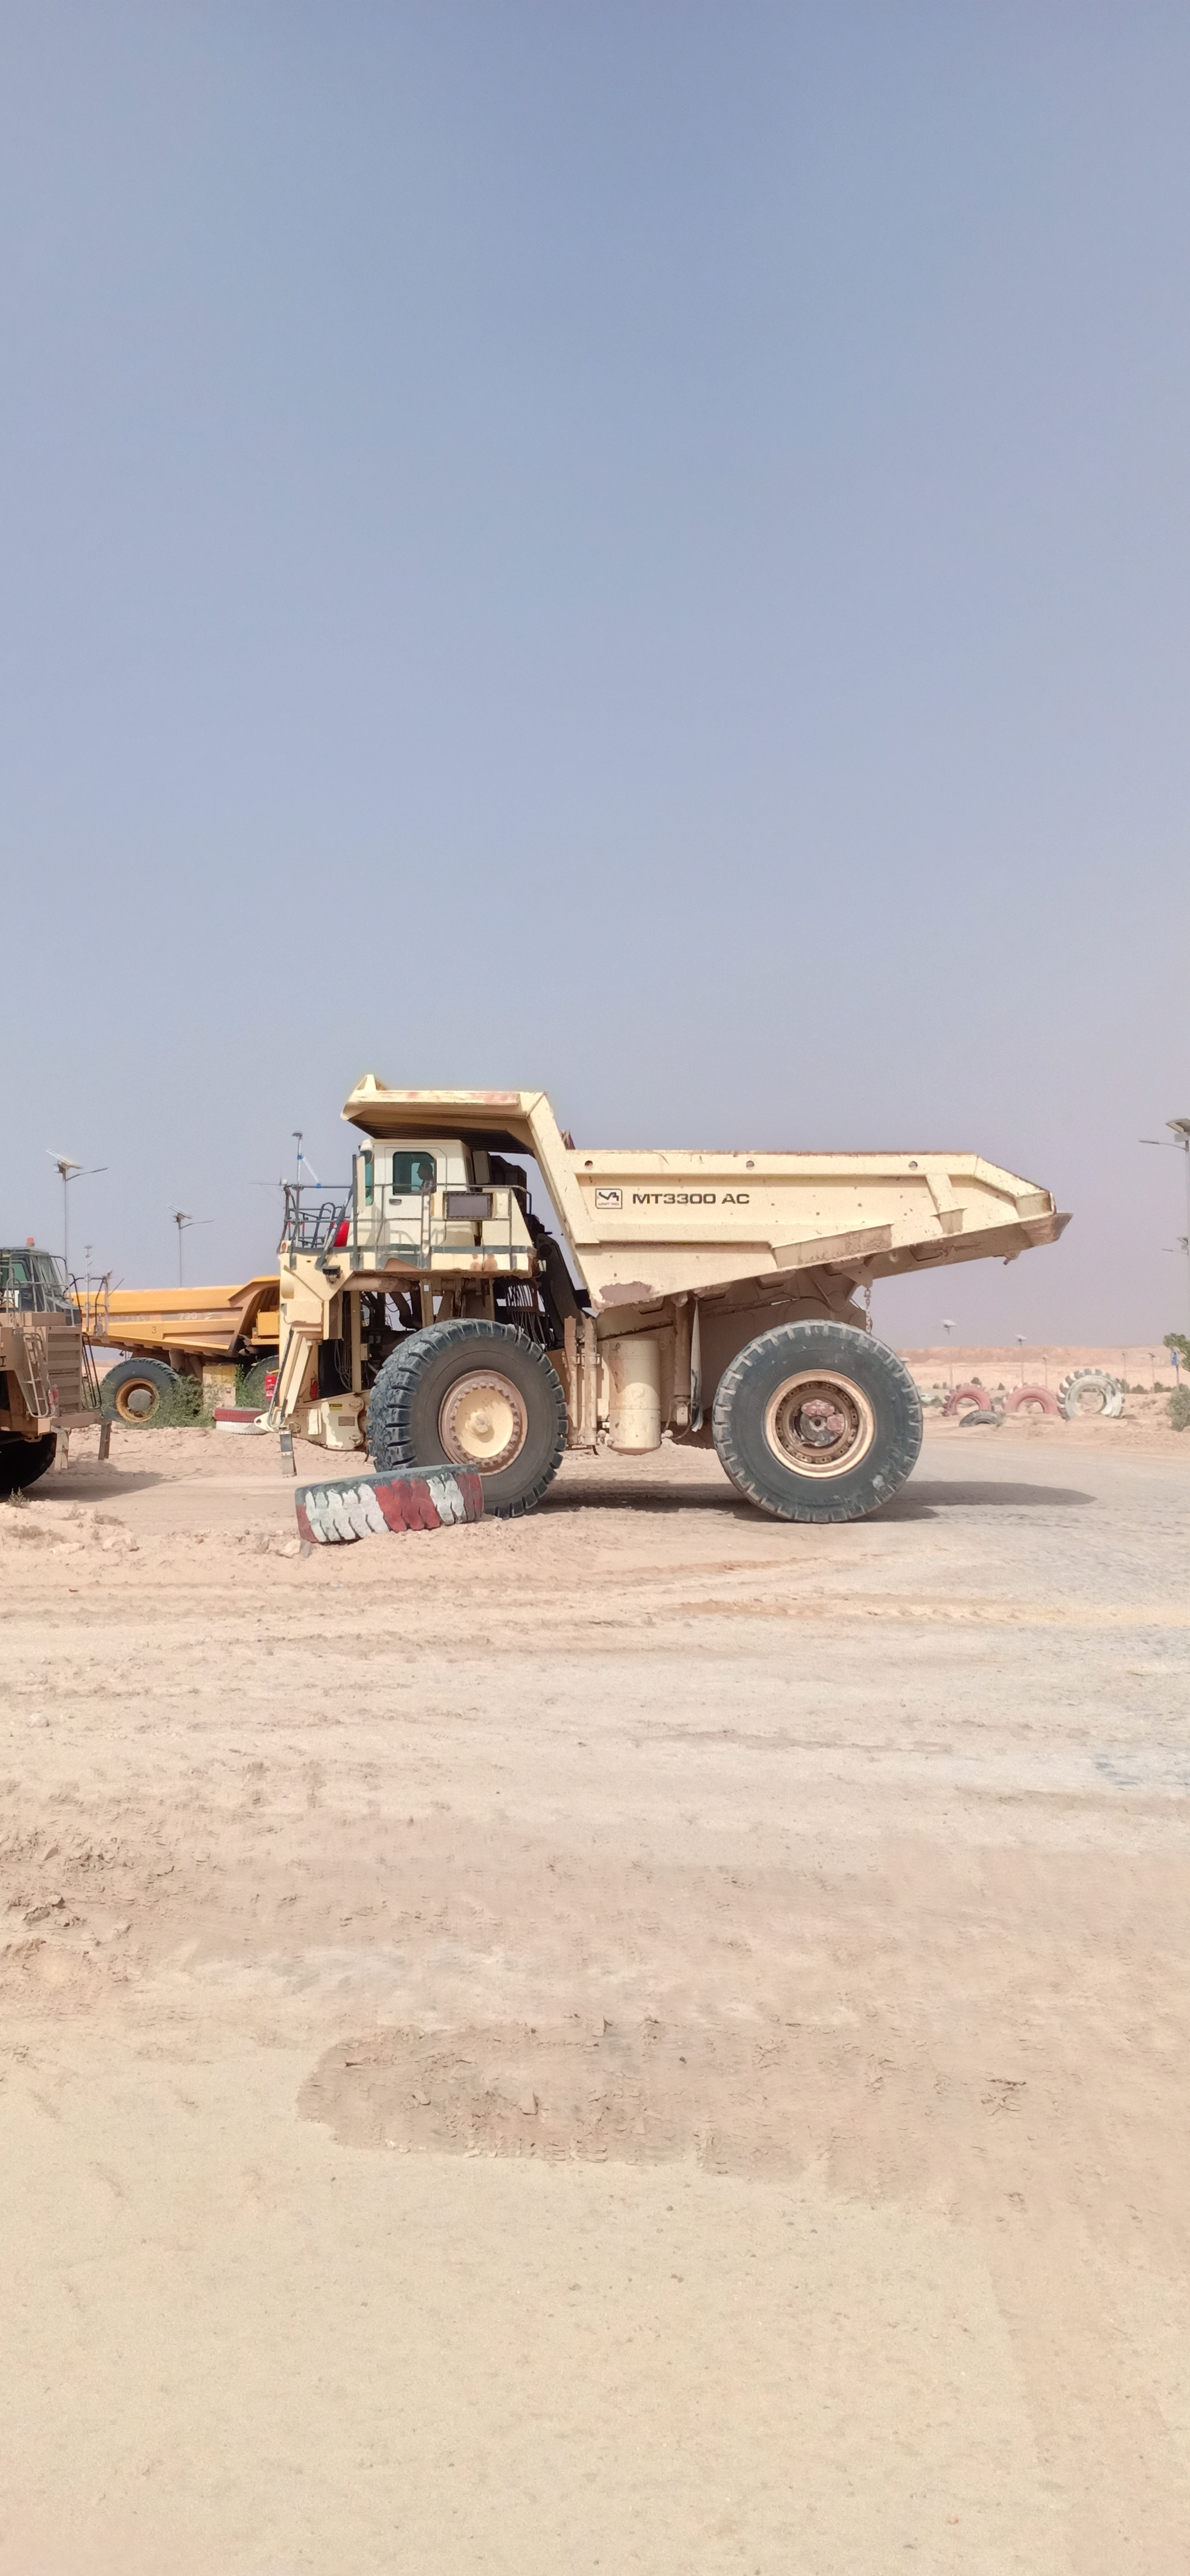camion: (294, 1061, 1082, 1557)
